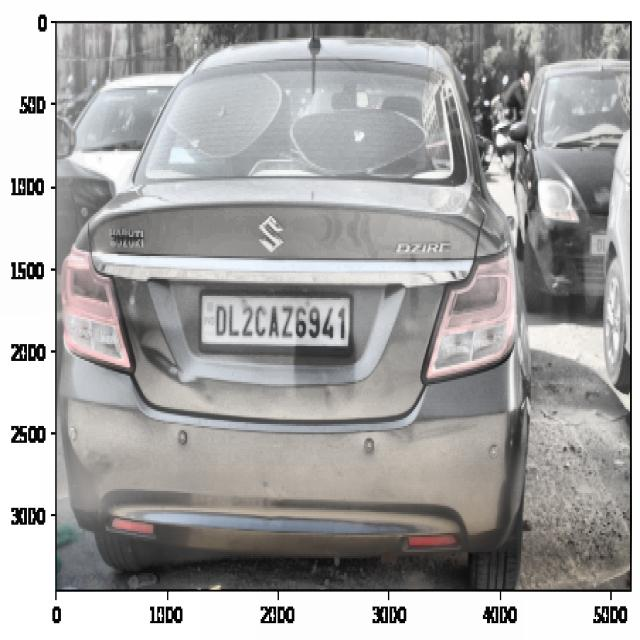license_plate: (212, 291, 351, 352)
